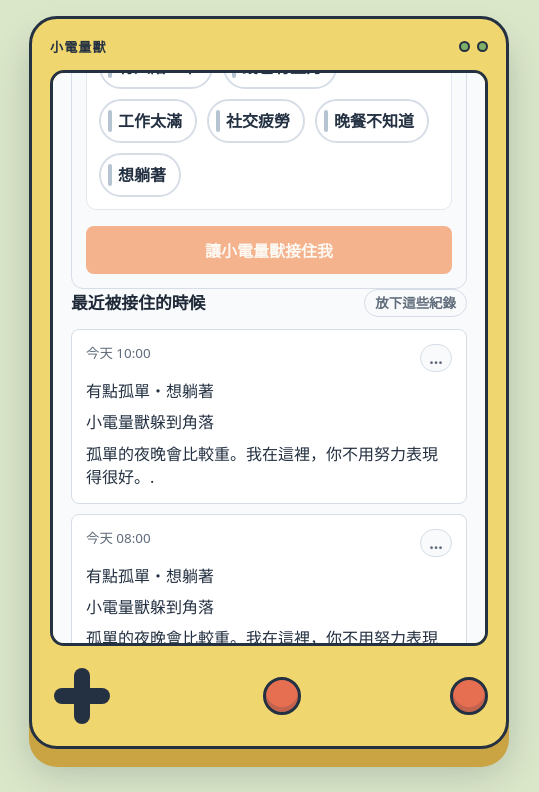
Scenario: App › deletes one local history day and keeps other days in sync
(page scrolled)
Click the button "..." in the row of "今天 10:00". click: (436, 358)
box: [420,344,452,372]
(page scrolled)
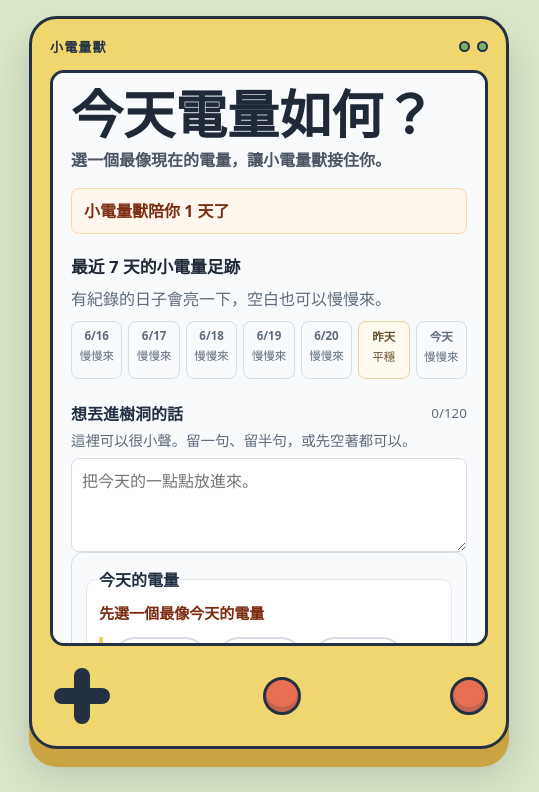
expect the text with test id "companion-days" reads "小電量獸陪你 1 天了": met, box [84,200,230,222]
expect the text "平穩" is shown: met, box [372,349,395,364]
